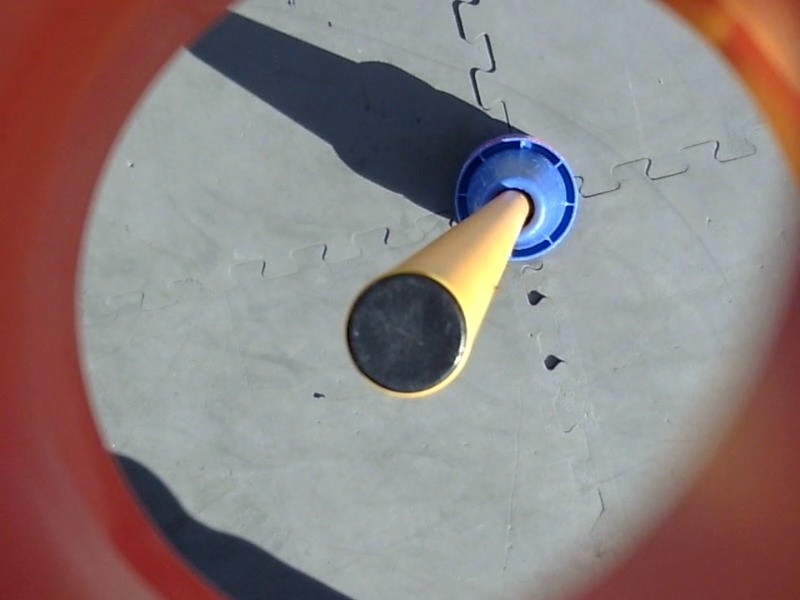tip: (339, 266, 476, 404)
